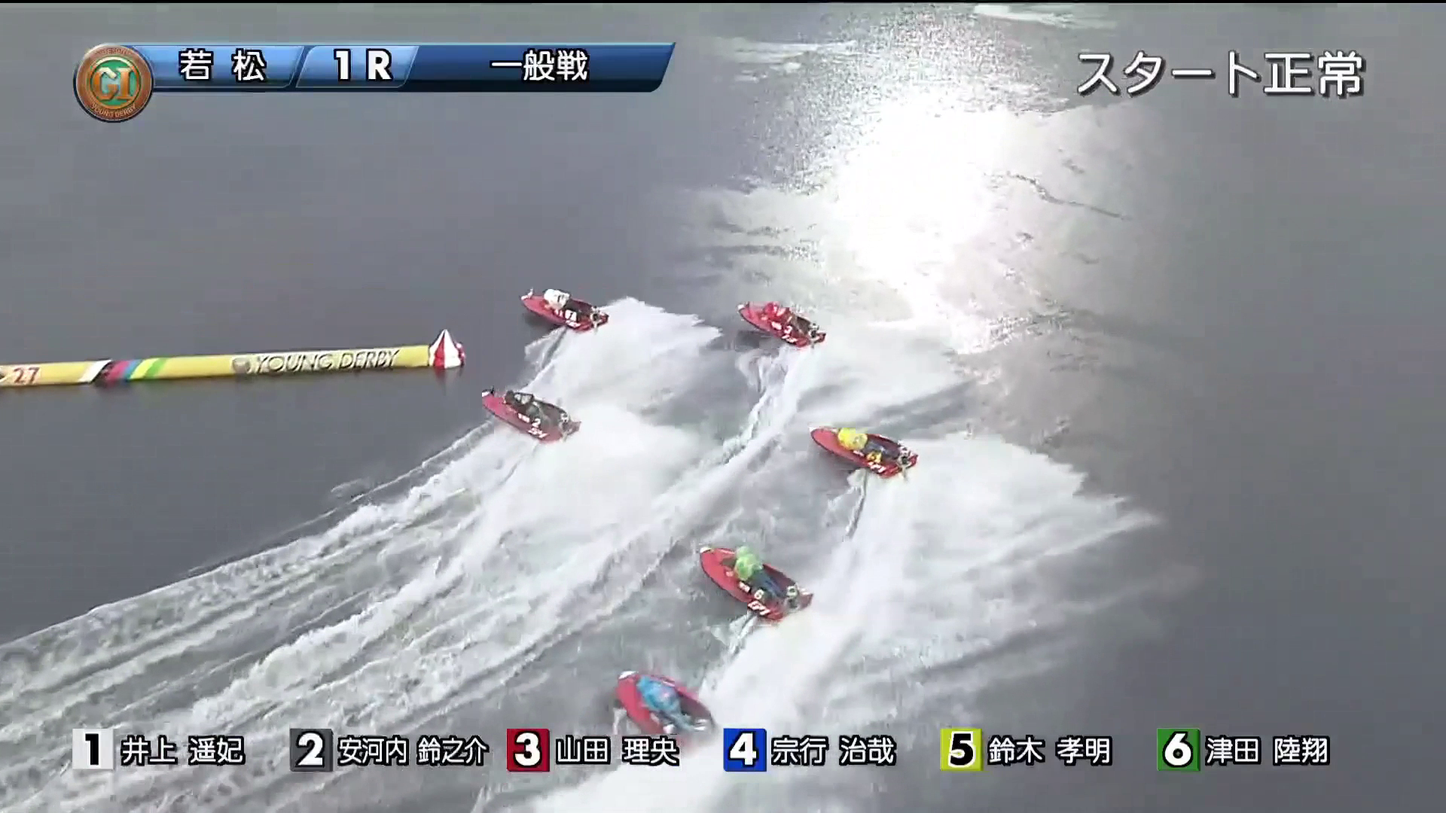１号艇: (504, 285, 575, 338)
２号艇: (451, 375, 579, 436)
３号艇: (735, 287, 833, 334)
４号艇: (695, 534, 829, 600)
５号艇: (613, 669, 737, 725)
６号艇: (811, 404, 911, 476)
